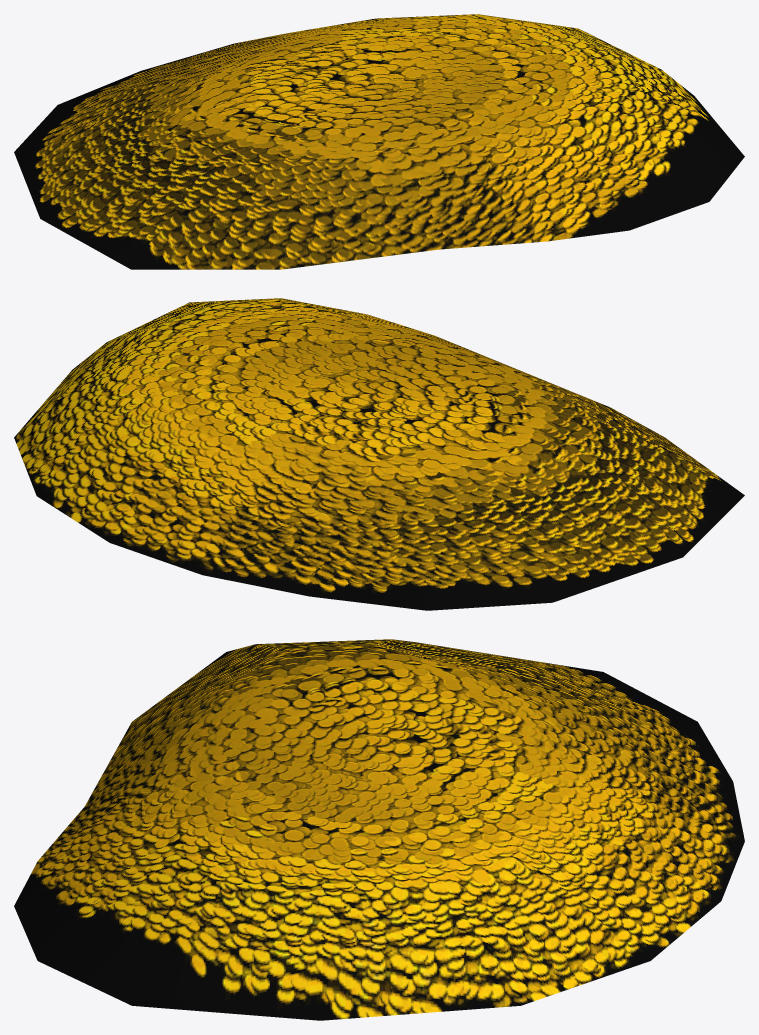
Rendered from INST_SM_GOLDPILE_MEDIUMF.fbx.
3 renders of one model, top to bottom at view 1: azimuth 30°, elevation 25°; view 2: azimuth 150°, elevation 25°; view 3: azimuth 270°, elevation 25°, orthographic. The views are drawn at different scales.
Visible parts, largest first — view 1: INST_SM_GOLDPILE_MEDIUMF; view 2: INST_SM_GOLDPILE_MEDIUMF; view 3: INST_SM_GOLDPILE_MEDIUMF.
Boxes of the visible parts, x1=… form: INST_SM_GOLDPILE_MEDIUMF: x1=14, y1=14, x2=744, y2=269; INST_SM_GOLDPILE_MEDIUMF: x1=14, y1=298, x2=744, y2=610; INST_SM_GOLDPILE_MEDIUMF: x1=14, y1=639, x2=744, y2=1020.
Size of the model in its own units: 95000 by 10000 by 77500.
Materials: 1 (1 with a texture image).
